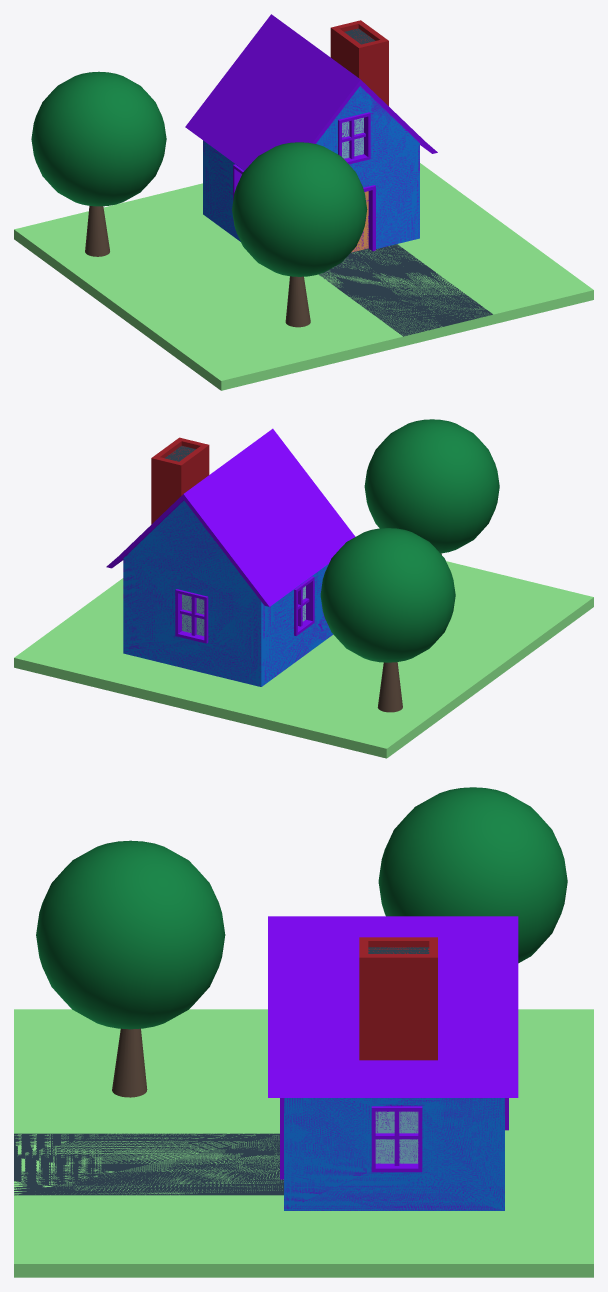
File: LowPolyHouse1.dae
3 views of the same model, one above another, from view 1: azimuth 30°, elevation 25°; view 2: azimuth 150°, elevation 25°; view 3: azimuth 270°, elevation 25° (orthographic). The views are drawn at different scales.
Visible parts, largest first — view 1: group_5 (×2), Sphere (×2), group_7 (×4), group_8, group_2 (×2); view 2: group_5, group_7 (×5), Sphere (×2), group_8, group_2; view 3: group_5 (×2), group_7 (×4), Sphere (×2), group_8, group_2.
Boxes of the visible parts, bbox=[...] form: group_5 (×2): bbox=[14, 163, 593, 390]; Sphere (×2): bbox=[31, 71, 367, 276]; group_7 (×4): bbox=[185, 14, 437, 251]; group_8: bbox=[330, 20, 388, 105]; group_2 (×2): bbox=[85, 206, 310, 327]; group_5: bbox=[14, 561, 593, 758]; group_7 (×5): bbox=[106, 428, 355, 686]; Sphere (×2): bbox=[320, 419, 499, 662]; group_8: bbox=[151, 437, 209, 524]; group_2: bbox=[377, 662, 402, 712]; group_5 (×2): bbox=[14, 1009, 593, 1277]; group_7 (×4): bbox=[268, 916, 518, 1210]; Sphere (×2): bbox=[36, 787, 567, 1029]; group_8: bbox=[359, 937, 437, 1060]; group_2: bbox=[112, 1028, 147, 1097].
Size of the model in its own units: 786 by 724 by 364.
